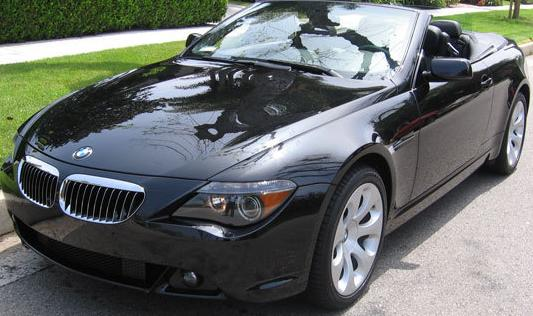front_view: (4, 126, 305, 303)
headlight: (163, 177, 301, 234)
